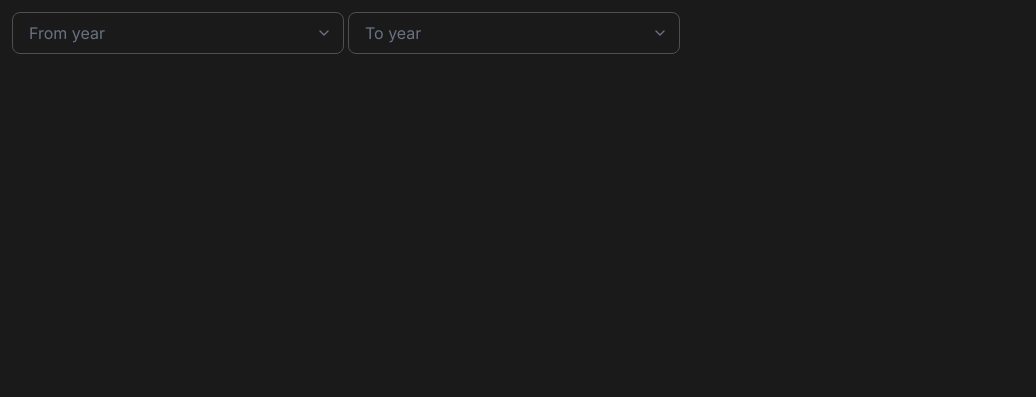
Test: YearRangePicker Component › To Year Selection › should respect maxYear for to picker
Focus the field with placeholder "To year". click: (514, 33)
box: [348,12,680,54]
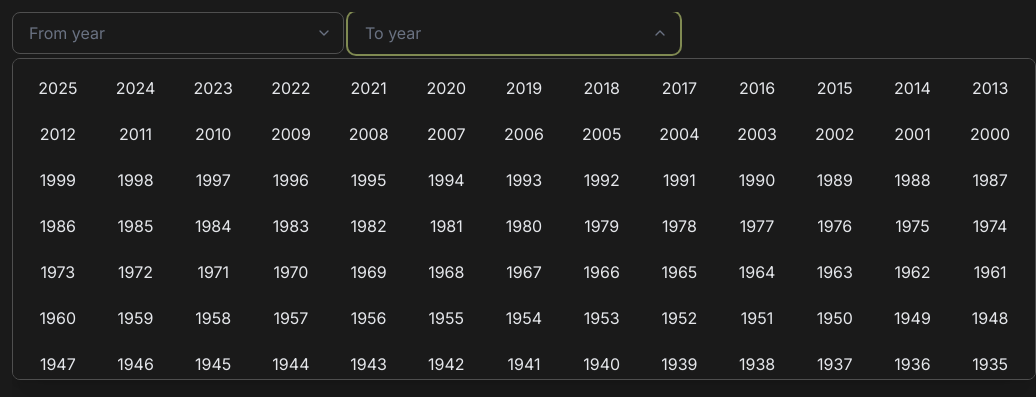
Check: the button "2025" is shown, box [21,67,95,109]
